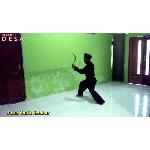Celurit: (68, 50, 78, 70)
